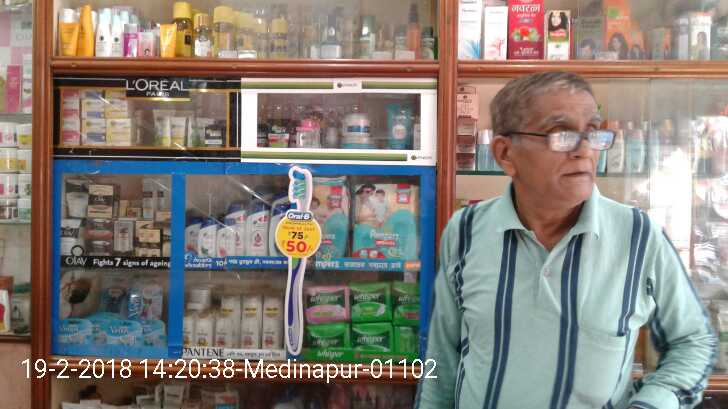venus: (131, 274, 164, 314), (103, 275, 128, 314), (108, 317, 143, 344), (60, 319, 92, 343), (143, 319, 164, 344), (92, 314, 107, 344)
